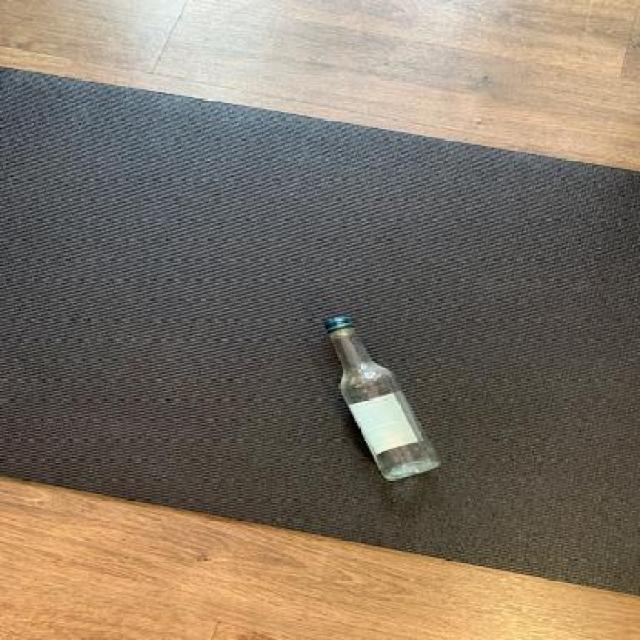trash: (323, 314, 446, 483)
